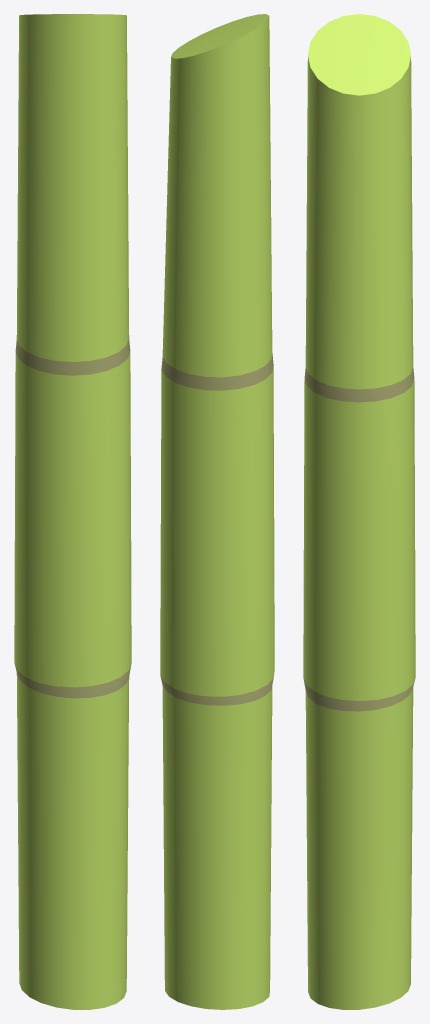
Rendered from BambuV2.fbx.
The picture shows the model from 3 angles, left to right: view 1: azimuth 90°, elevation 25°; view 2: azimuth 150°, elevation 25°; view 3: azimuth 270°, elevation 25°; orthographic projection. The views are drawn at different scales.
Parts seen in each view (by area): view 1: Rama_Bambu1; view 2: Rama_Bambu1; view 3: Rama_Bambu1.
Part boxes in pixels (x1,y1,x2,y2): Rama_Bambu1: (14,14,131,1009); Rama_Bambu1: (160,14,274,1009); Rama_Bambu1: (303,14,415,1009).
Bounding box in the file's own units: 0.6677 × 6.27 × 0.6677.
